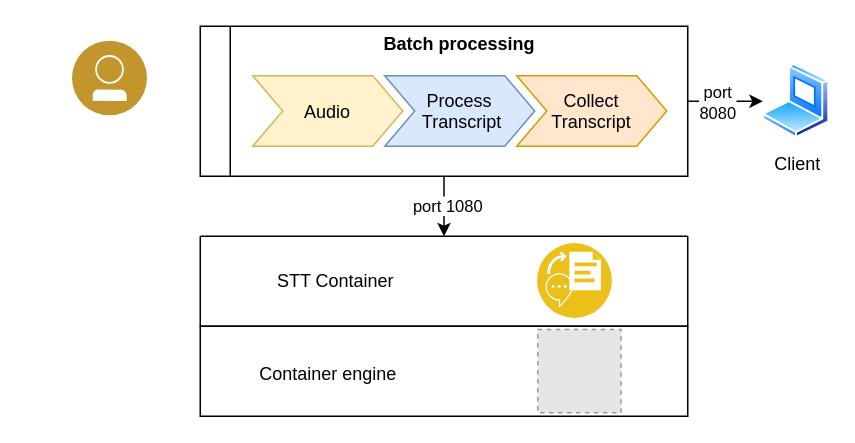
This 855x443 diagram has some shape labels left out. Grey dashed boxes stand in for pictures. Each missing label, with the box of its shape:
Java Application: (199, 25, 688, 176)
ML Ops / Developers: (72, 40, 147, 116)
